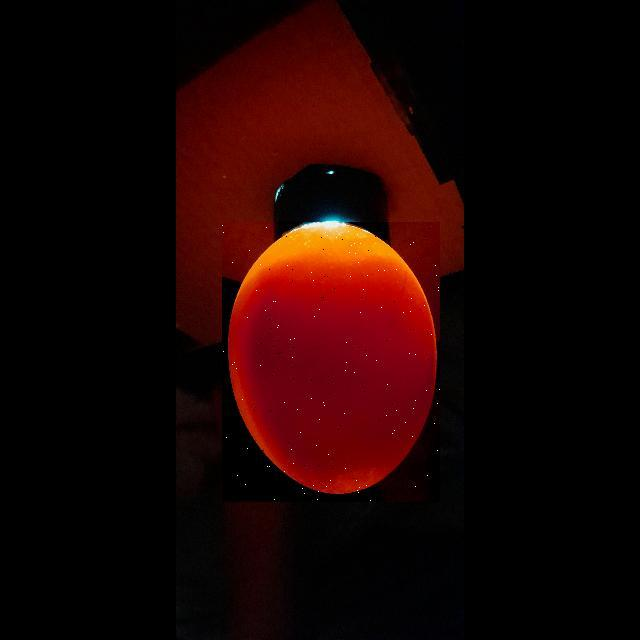Infertile: (222, 222, 440, 502)
